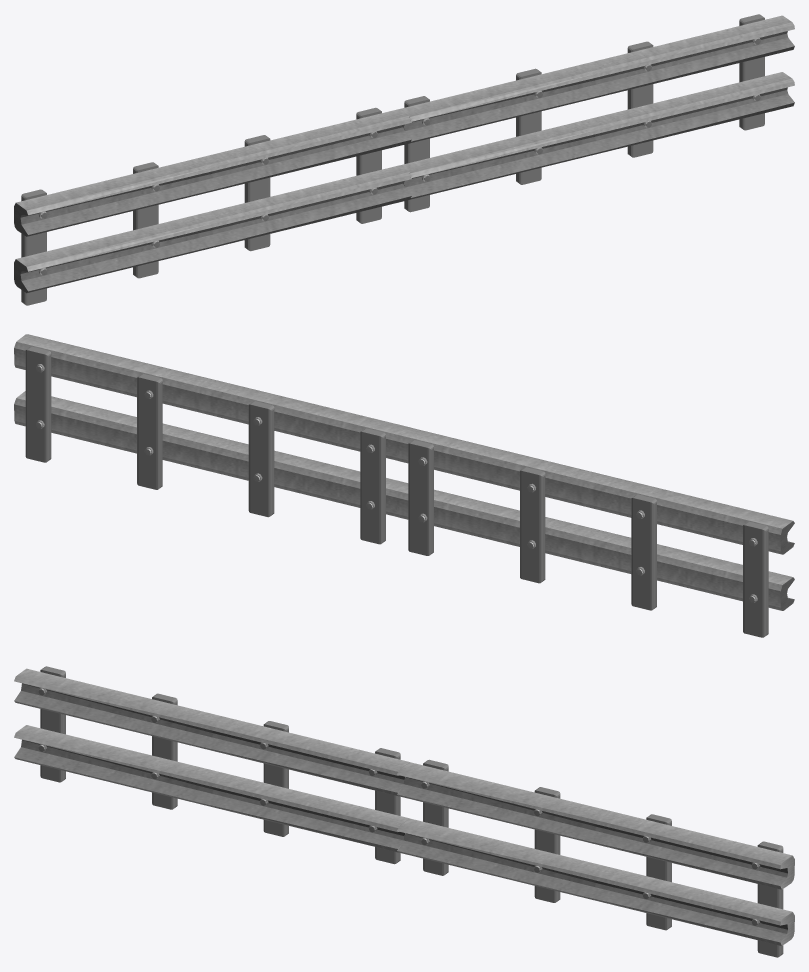
File: Guardrail.obj
3 views of the same model, one above another, from view 1: azimuth 30°, elevation 25°; view 2: azimuth 150°, elevation 25°; view 3: azimuth 330°, elevation 25° (orthographic).
Parts seen in each view (by area): view 1: Mesh, pasted__Mesh group; view 2: Mesh, pasted__Mesh group; view 3: pasted__Mesh group, Mesh.
Boxes of the visible parts, bbox=[...] form: Mesh: bbox=[14, 107, 411, 305]; pasted__Mesh group: bbox=[400, 14, 794, 212]; Mesh: bbox=[396, 427, 794, 637]; pasted__Mesh group: bbox=[14, 334, 410, 544]; pasted__Mesh group: bbox=[397, 759, 794, 957]; Mesh: bbox=[14, 666, 409, 864].
Bounding box in the file's own units: 12.57 × 1.7 × 0.6043.
4 materials, 4 textured.
